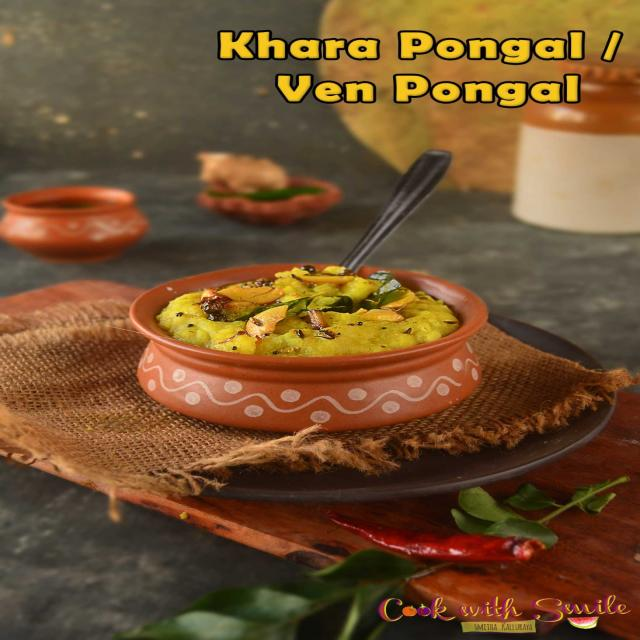khara pongal: (132, 248, 484, 386)
